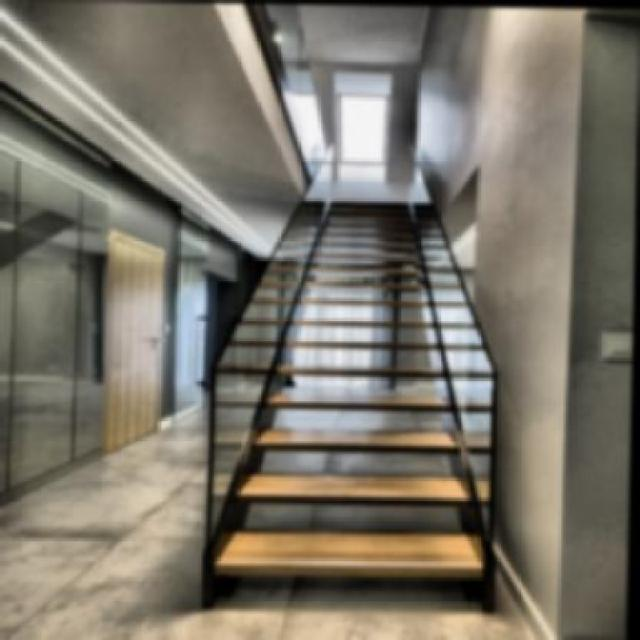stair: (218, 176, 502, 578)
